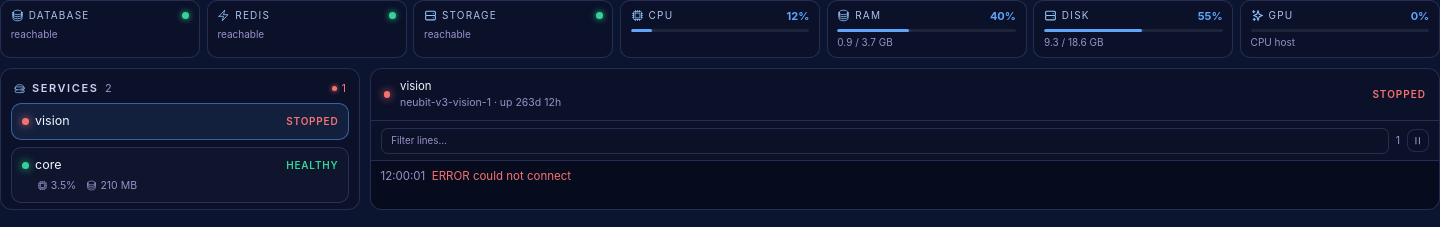
Test: logs › switches the tail when another service is picked
Expected: the element named "vision logs" is shown, [371, 161, 1439, 209]
Click the text "core": (48, 165) [35, 156, 61, 174]
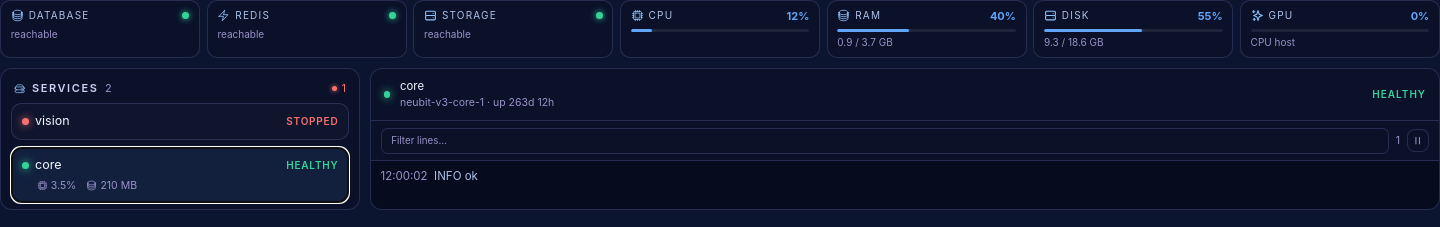
Result: the element named "core logs" is shown at [371, 161, 1439, 209]
Result: the text "INFO ok" is shown at [434, 168, 478, 185]
Result: the text "could not connect" is gone
